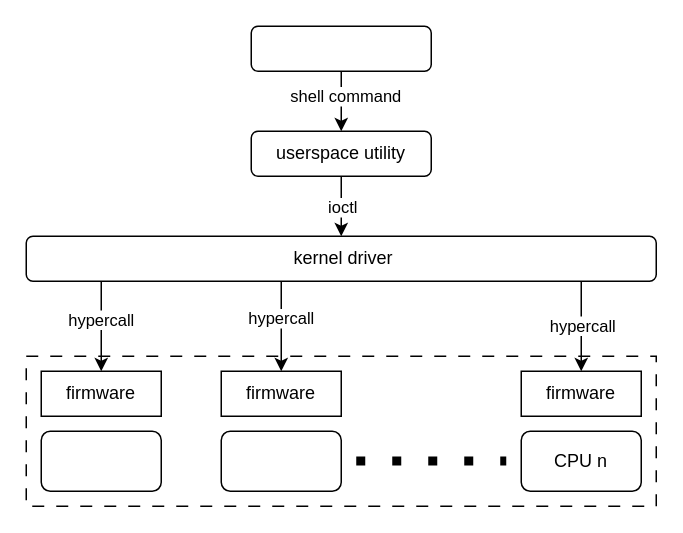
Image size: 683x533. Some labels were removed from this diagram. Here are the shapes that lost their labels. From the top down, the centre of each, then its label:
At (340,48): "user".
At (100,460): "CPU 1".
At (280,460): "CPU 2".
